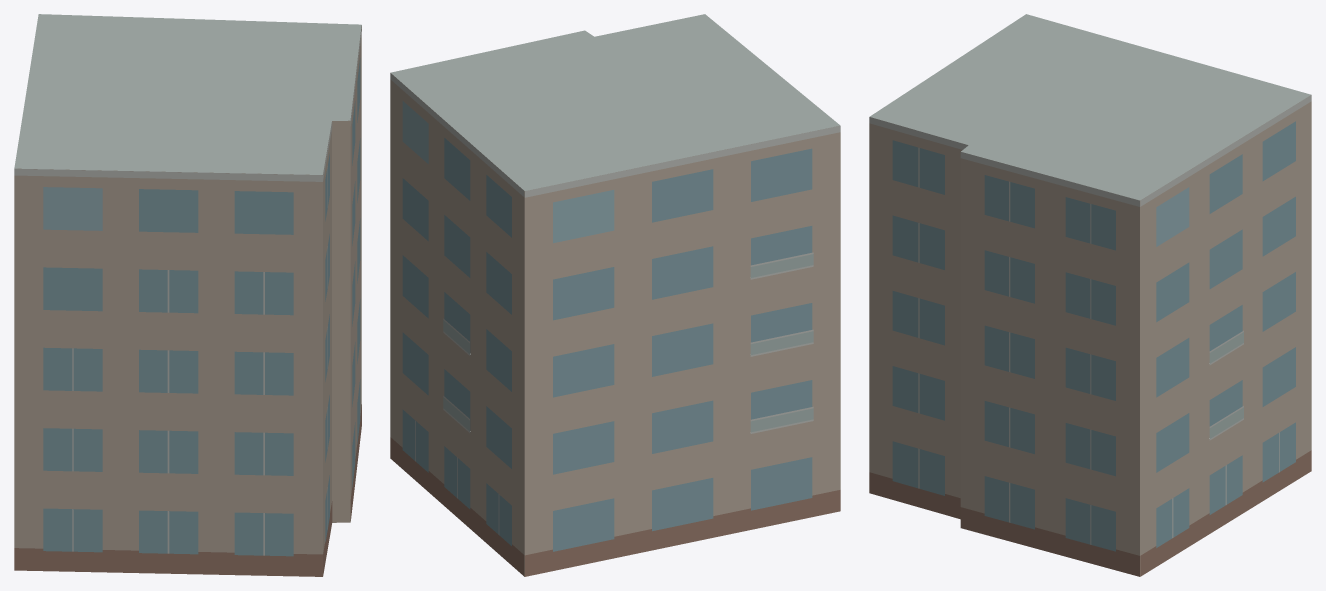
File: survey-upis-32891196.glb
The picture shows the model from 3 angles, left to right: view 1: azimuth 30°, elevation 25°; view 2: azimuth 150°, elevation 25°; view 3: azimuth 270°, elevation 25°; orthographic projection. The views are drawn at different scales.
Parts seen in each view (by area): view 1: survey-upis-32891196.tmp; view 2: survey-upis-32891196.tmp; view 3: survey-upis-32891196.tmp.
Boxes of the visible parts, bbox=[...] form: survey-upis-32891196.tmp: bbox=[14, 14, 361, 576]; survey-upis-32891196.tmp: bbox=[390, 14, 840, 576]; survey-upis-32891196.tmp: bbox=[869, 14, 1311, 576].
Bounding box in the file's own units: 15.11 × 14.2 × 15.13.
